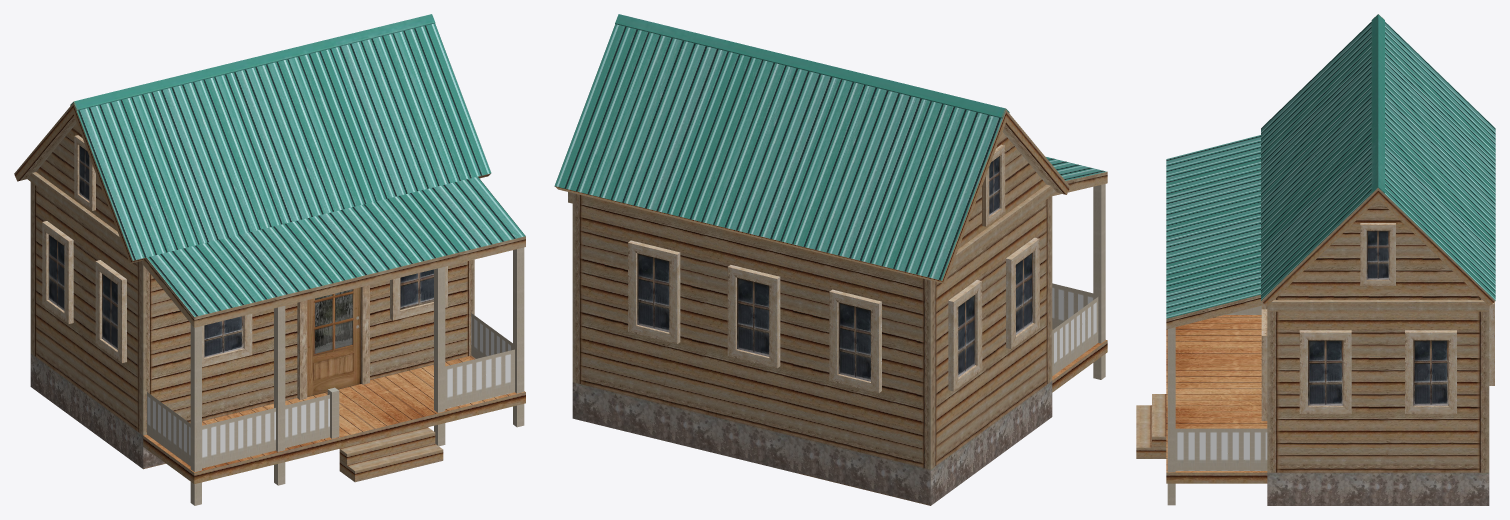
The model's file is hut.glb.
3 renders of one model, left to right at view 1: azimuth 30°, elevation 25°; view 2: azimuth 150°, elevation 25°; view 3: azimuth 270°, elevation 25°, orthographic. The views are drawn at different scales.
Parts seen in each view (by area): view 1: Cube.006, Cube, Cube.001, Cube.022, Cube.019, Plane.001, Plane, Cube.023, Cube.015, Cube.012, Cube.013, Cube.021 (+7 smaller); view 2: Cube, Cube.006, Cube.017, Cube.018, Cube.016, Cube.023, Plane.001, Cube.013, Cube.012, Cube.004, Cube.008, Cube.014 (+2 smaller); view 3: Cube, Cube.006, Cube.001, Cube.022, Cube.009, Cube.011, Plane, Cube.007, Cube.023, Cube.010, Cube.015, Cube.002 (+2 smaller).
Boxes of the visible parts, x1,y1,x2,y2 form: Cube.006: (14, 23, 491, 263); Cube: (30, 123, 474, 469); Cube.001: (141, 176, 525, 327); Cube.022: (143, 355, 525, 483); Cube.019: (297, 285, 369, 399); Plane.001: (147, 392, 329, 468); Plane: (445, 313, 514, 408); Cube.023: (70, 14, 435, 110); Cube.015: (339, 427, 443, 482); Cube.012: (95, 260, 126, 362); Cube.013: (42, 221, 73, 323); Cube.021: (202, 314, 252, 367); Cube: (572, 132, 1052, 505); Cube.006: (554, 24, 1070, 283); Cube.017: (727, 265, 780, 368); Cube.018: (829, 289, 881, 393); Cube.016: (628, 240, 680, 343); Cube.023: (615, 14, 1009, 118); Plane.001: (1052, 283, 1098, 375); Cube.013: (948, 280, 982, 391); Cube.012: (1006, 237, 1039, 349); Cube.004: (1093, 184, 1105, 379); Cube.008: (951, 184, 1056, 268); Cube.014: (982, 144, 1005, 226); Cube: (1267, 199, 1489, 505); Cube.006: (1261, 22, 1495, 306); Cube.001: (1166, 135, 1264, 329); Cube.022: (1166, 315, 1267, 483); Cube.009: (1299, 330, 1351, 414); Cube.011: (1405, 330, 1456, 414); Plane: (1175, 428, 1267, 470); Cube.007: (1267, 300, 1489, 311); Cube.023: (1371, 14, 1384, 193); Cube.010: (1360, 223, 1395, 285); Cube.015: (1136, 394, 1166, 458); Cube.002: (1167, 327, 1175, 505).
Bounding box in the file's own units: 7.09 × 6.23 × 6.23.
2 materials, 2 textured.
